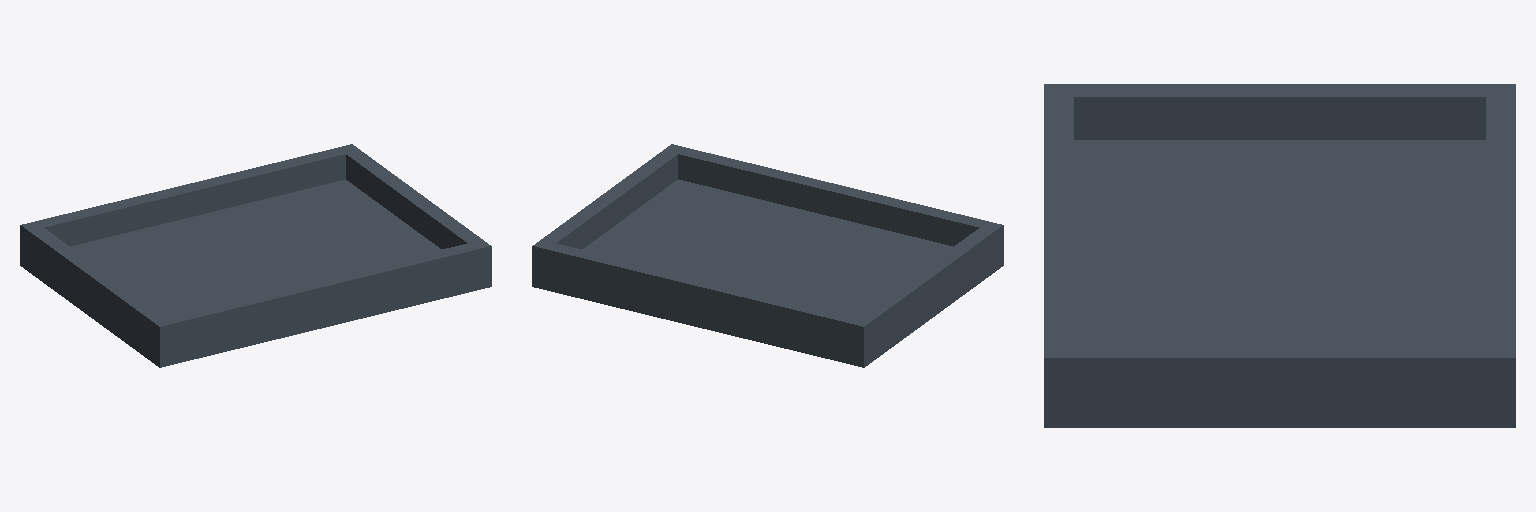
URDF robot description (dvrk_pybullet_interaction_tray):
<?xml version="1.0"?>
<!-- SPDX-License-Identifier: Apache-2.0 -->
<robot name="dvrk_pybullet_interaction_tray">
  <link name="tray">
    <inertial>
      <origin xyz="0 0 0" rpy="0 0 0"/>
      <mass value="0.25"/>
      <inertia ixx="0.001" ixy="0" ixz="0" iyy="0.0015" iyz="0" izz="0.002"/>
    </inertial>
    <visual>
      <origin xyz="0 0 -0.005" rpy="0 0 0"/>
      <geometry><box size="0.220 0.160 0.010"/></geometry>
      <material name="tray_gray"><color rgba="0.34 0.38 0.42 1"/></material>
    </visual>
    <collision><origin xyz="0 0 -0.005"/><geometry><box size="0.220 0.160 0.010"/></geometry></collision>
    <visual><origin xyz="0.105 0 0.0055"/><geometry><box size="0.010 0.160 0.021"/></geometry><material name="tray_gray"/></visual>
    <collision><origin xyz="0.105 0 0.0055"/><geometry><box size="0.010 0.160 0.021"/></geometry></collision>
    <visual><origin xyz="-0.105 0 0.0055"/><geometry><box size="0.010 0.160 0.021"/></geometry><material name="tray_gray"/></visual>
    <collision><origin xyz="-0.105 0 0.0055"/><geometry><box size="0.010 0.160 0.021"/></geometry></collision>
    <visual><origin xyz="0 0.075 0.0055"/><geometry><box size="0.220 0.010 0.021"/></geometry><material name="tray_gray"/></visual>
    <collision><origin xyz="0 0.075 0.0055"/><geometry><box size="0.220 0.010 0.021"/></geometry></collision>
    <visual><origin xyz="0 -0.075 0.0055"/><geometry><box size="0.220 0.010 0.021"/></geometry><material name="tray_gray"/></visual>
    <collision><origin xyz="0 -0.075 0.0055"/><geometry><box size="0.220 0.010 0.021"/></geometry></collision>
  </link>
</robot>

--- Facts derived from the render (not from the file) ---
3 views of the same robot in one strip: view 1: azimuth 30°, elevation 25°; view 2: azimuth 150°, elevation 25°; view 3: azimuth 270°, elevation 25° (orthographic).
Robot: dvrk_pybullet_interaction_tray — 1 links, 0 joints (none); root link tray; default pose: all joints at 0.
Links seen in each view (by area): view 1: tray; view 2: tray; view 3: tray.
Link boxes in pixels (x1,y1,x2,y2): tray: [20, 144, 491, 367]; tray: [532, 144, 1003, 367]; tray: [1044, 84, 1515, 427].
Size in the robot's own frame: 0.22 by 0.16 by 0.026 metres.
Geometry: primitives only (box / cylinder / sphere), no mesh files.
